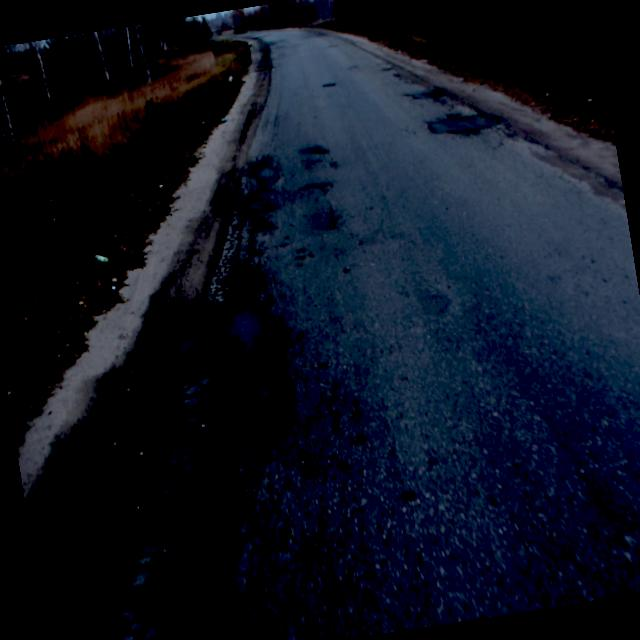road: (103, 28, 640, 640)
